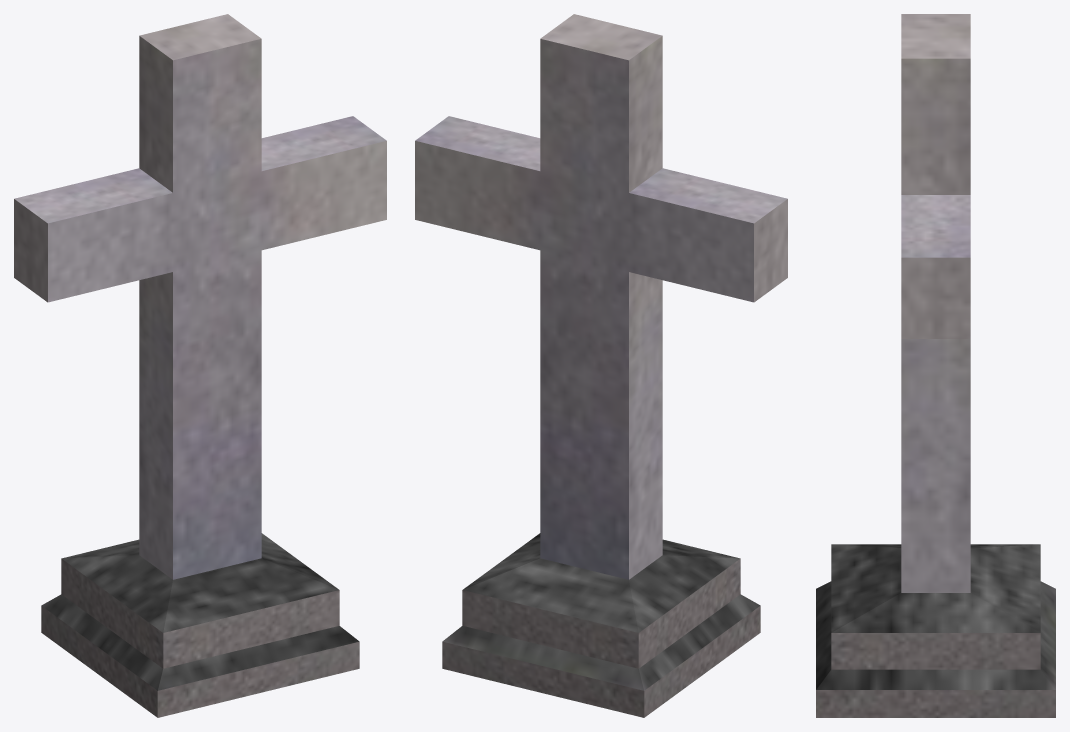
File: grave4.glb
3 views of the same model, side by side, from view 1: azimuth 30°, elevation 25°; view 2: azimuth 150°, elevation 25°; view 3: azimuth 270°, elevation 25° (orthographic). The views are drawn at different scales.
Size of the model in its own units: 3.36 by 5.81 by 2.
1 material, 1 textured.
